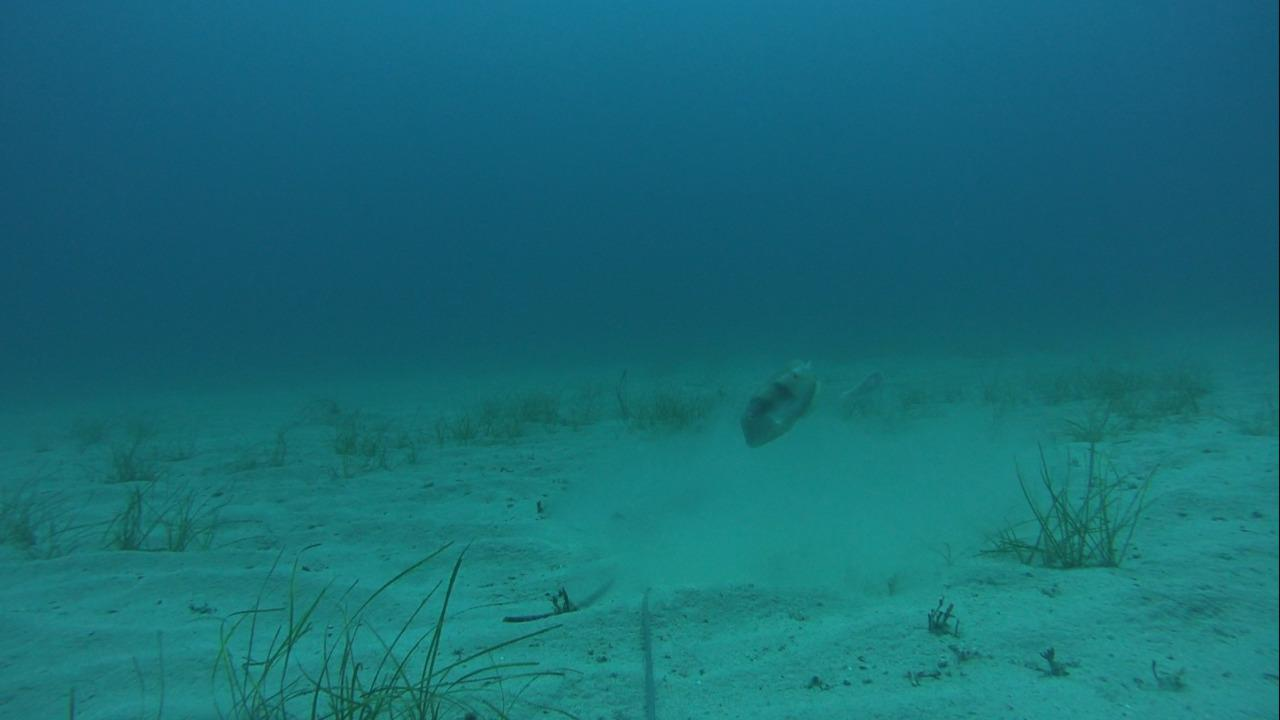raor: (734, 358, 824, 453)
